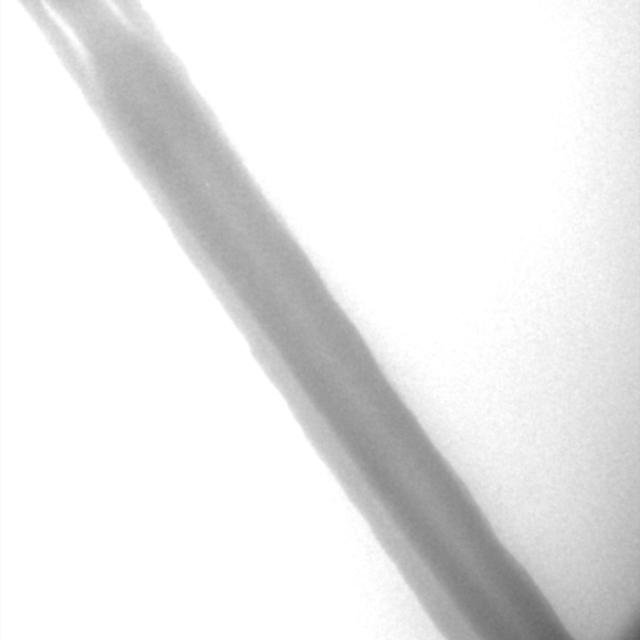unfused: (34, 0, 151, 97)
